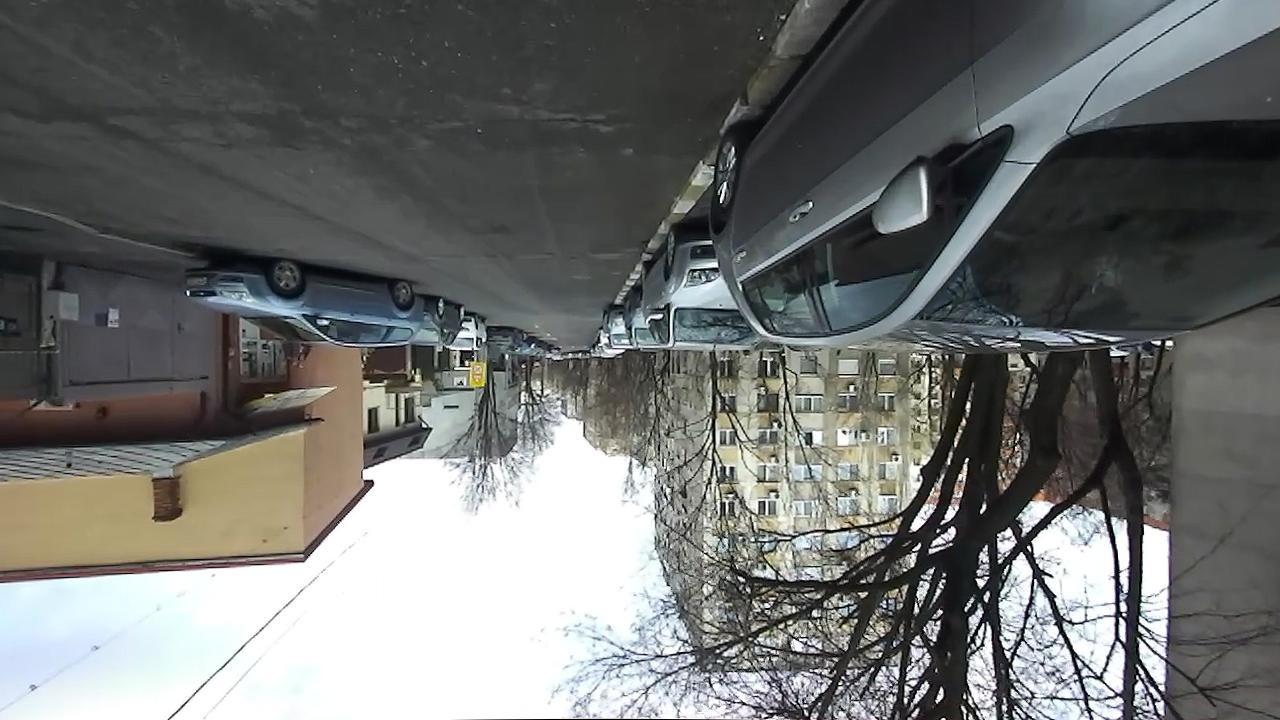pothole: (510, 106, 619, 141)
